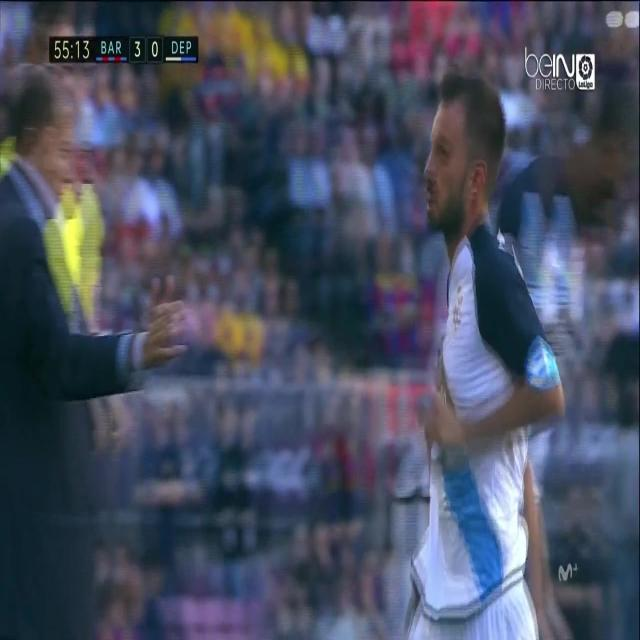Player: (401, 71, 565, 640)
